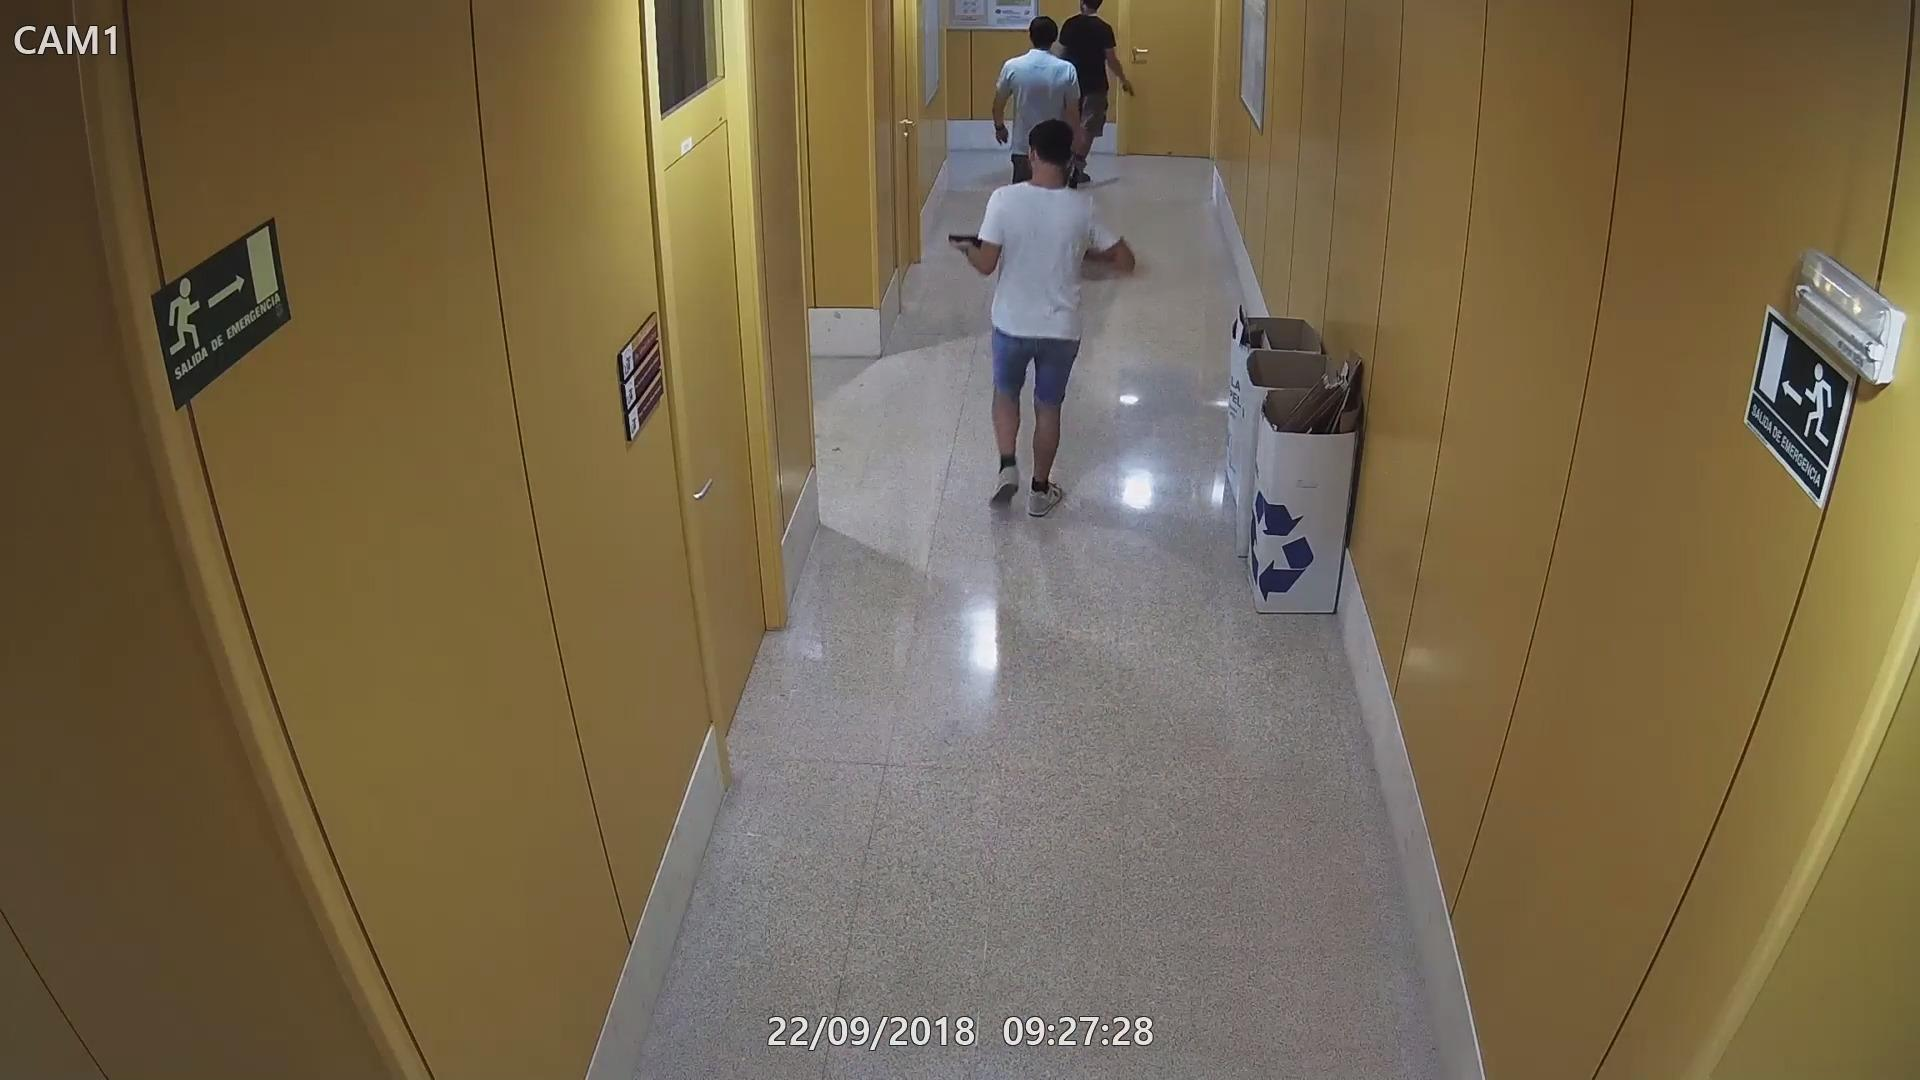Handgun: (1117, 74, 1143, 100)
